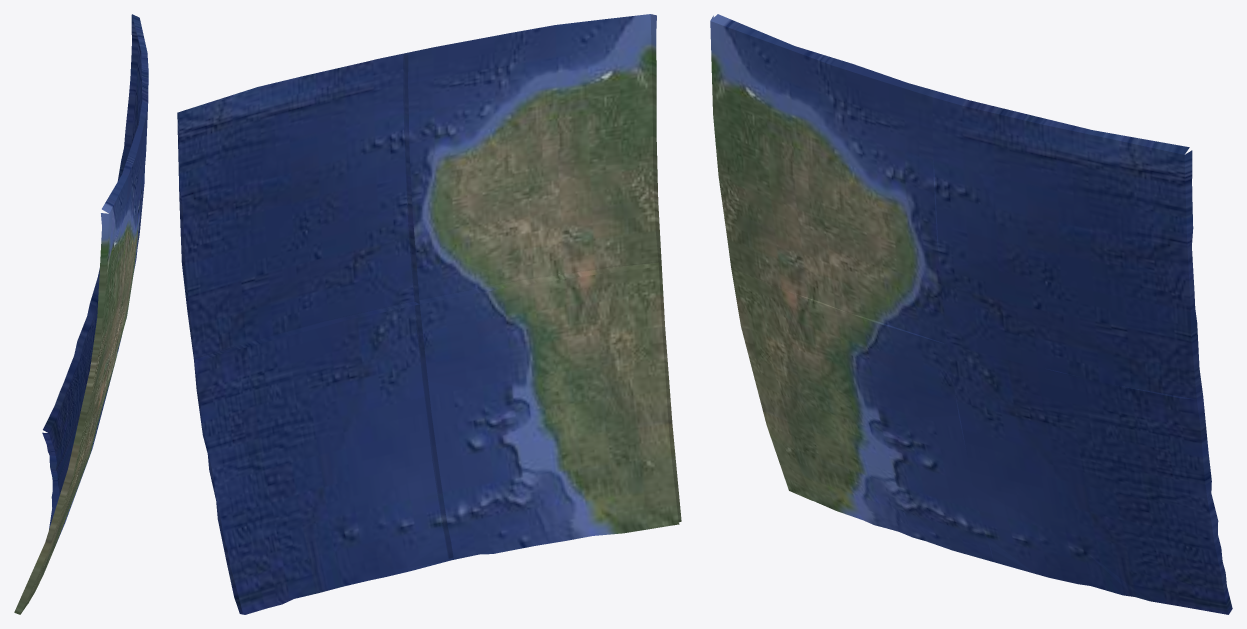
3 views of the same model, side by side, from view 1: azimuth 30°, elevation 25°; view 2: azimuth 150°, elevation 25°; view 3: azimuth 270°, elevation 25° (orthographic). The views are drawn at different scales.
Size of the model in its own units: 1762584 by 2456583 by 2283208.
1 material, 1 textured.
